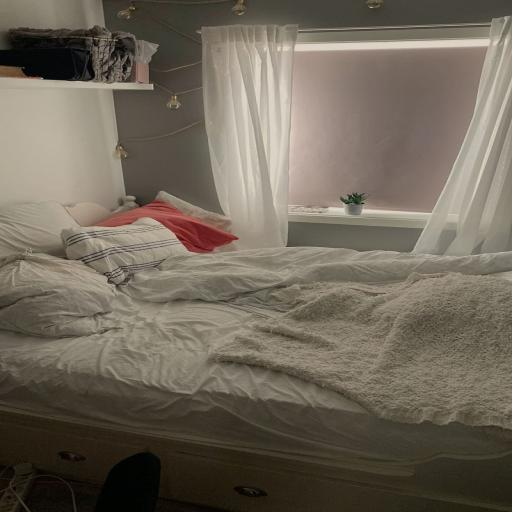person: (5, 187, 511, 508)
